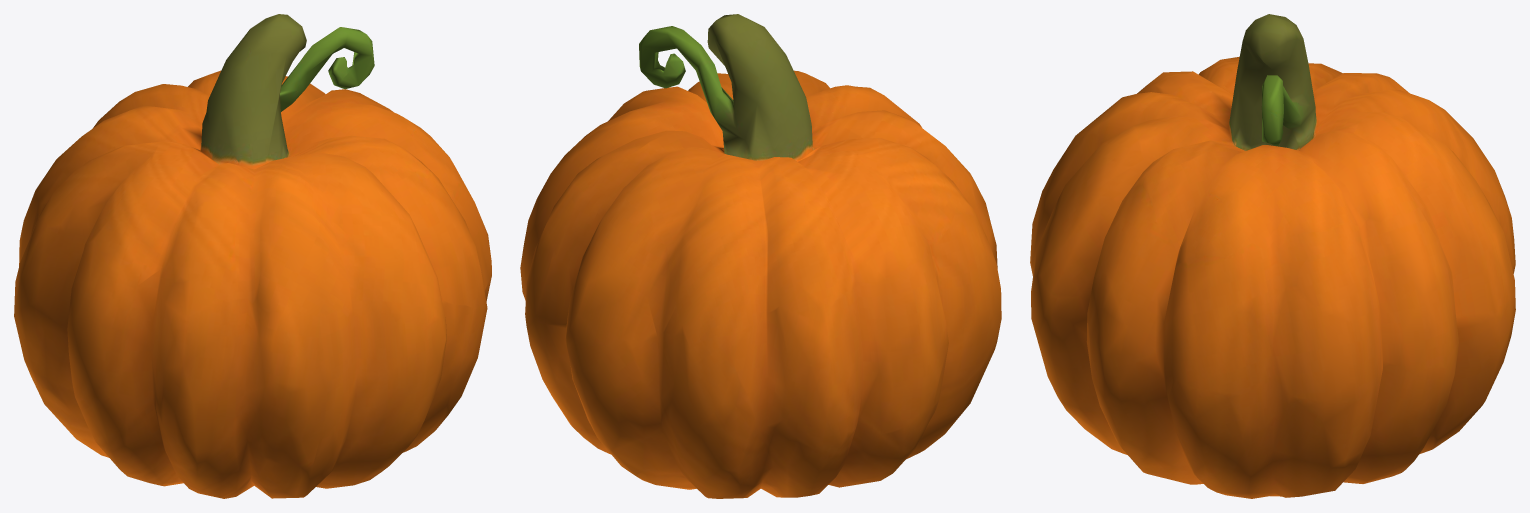
The model's file is pumpkin.glb.
3 renders of one model, left to right at view 1: azimuth 30°, elevation 25°; view 2: azimuth 150°, elevation 25°; view 3: azimuth 270°, elevation 25°, orthographic. The views are drawn at different scales.
Parts seen in each view (by area): view 1: tripo_node_6321b533-8272-41c6-8bb0-8645e7d450c3; view 2: tripo_node_6321b533-8272-41c6-8bb0-8645e7d450c3; view 3: tripo_node_6321b533-8272-41c6-8bb0-8645e7d450c3.
Part boxes in pixels (x1=…): tripo_node_6321b533-8272-41c6-8bb0-8645e7d450c3: x1=14, y1=14, x2=491, y2=498; tripo_node_6321b533-8272-41c6-8bb0-8645e7d450c3: x1=520, y1=14, x2=1001, y2=498; tripo_node_6321b533-8272-41c6-8bb0-8645e7d450c3: x1=1030, y1=14, x2=1515, y2=498.
Bounding box in the file's own units: 0.9934 × 0.9988 × 0.9912.
Materials: 1 (1 with a texture image).
